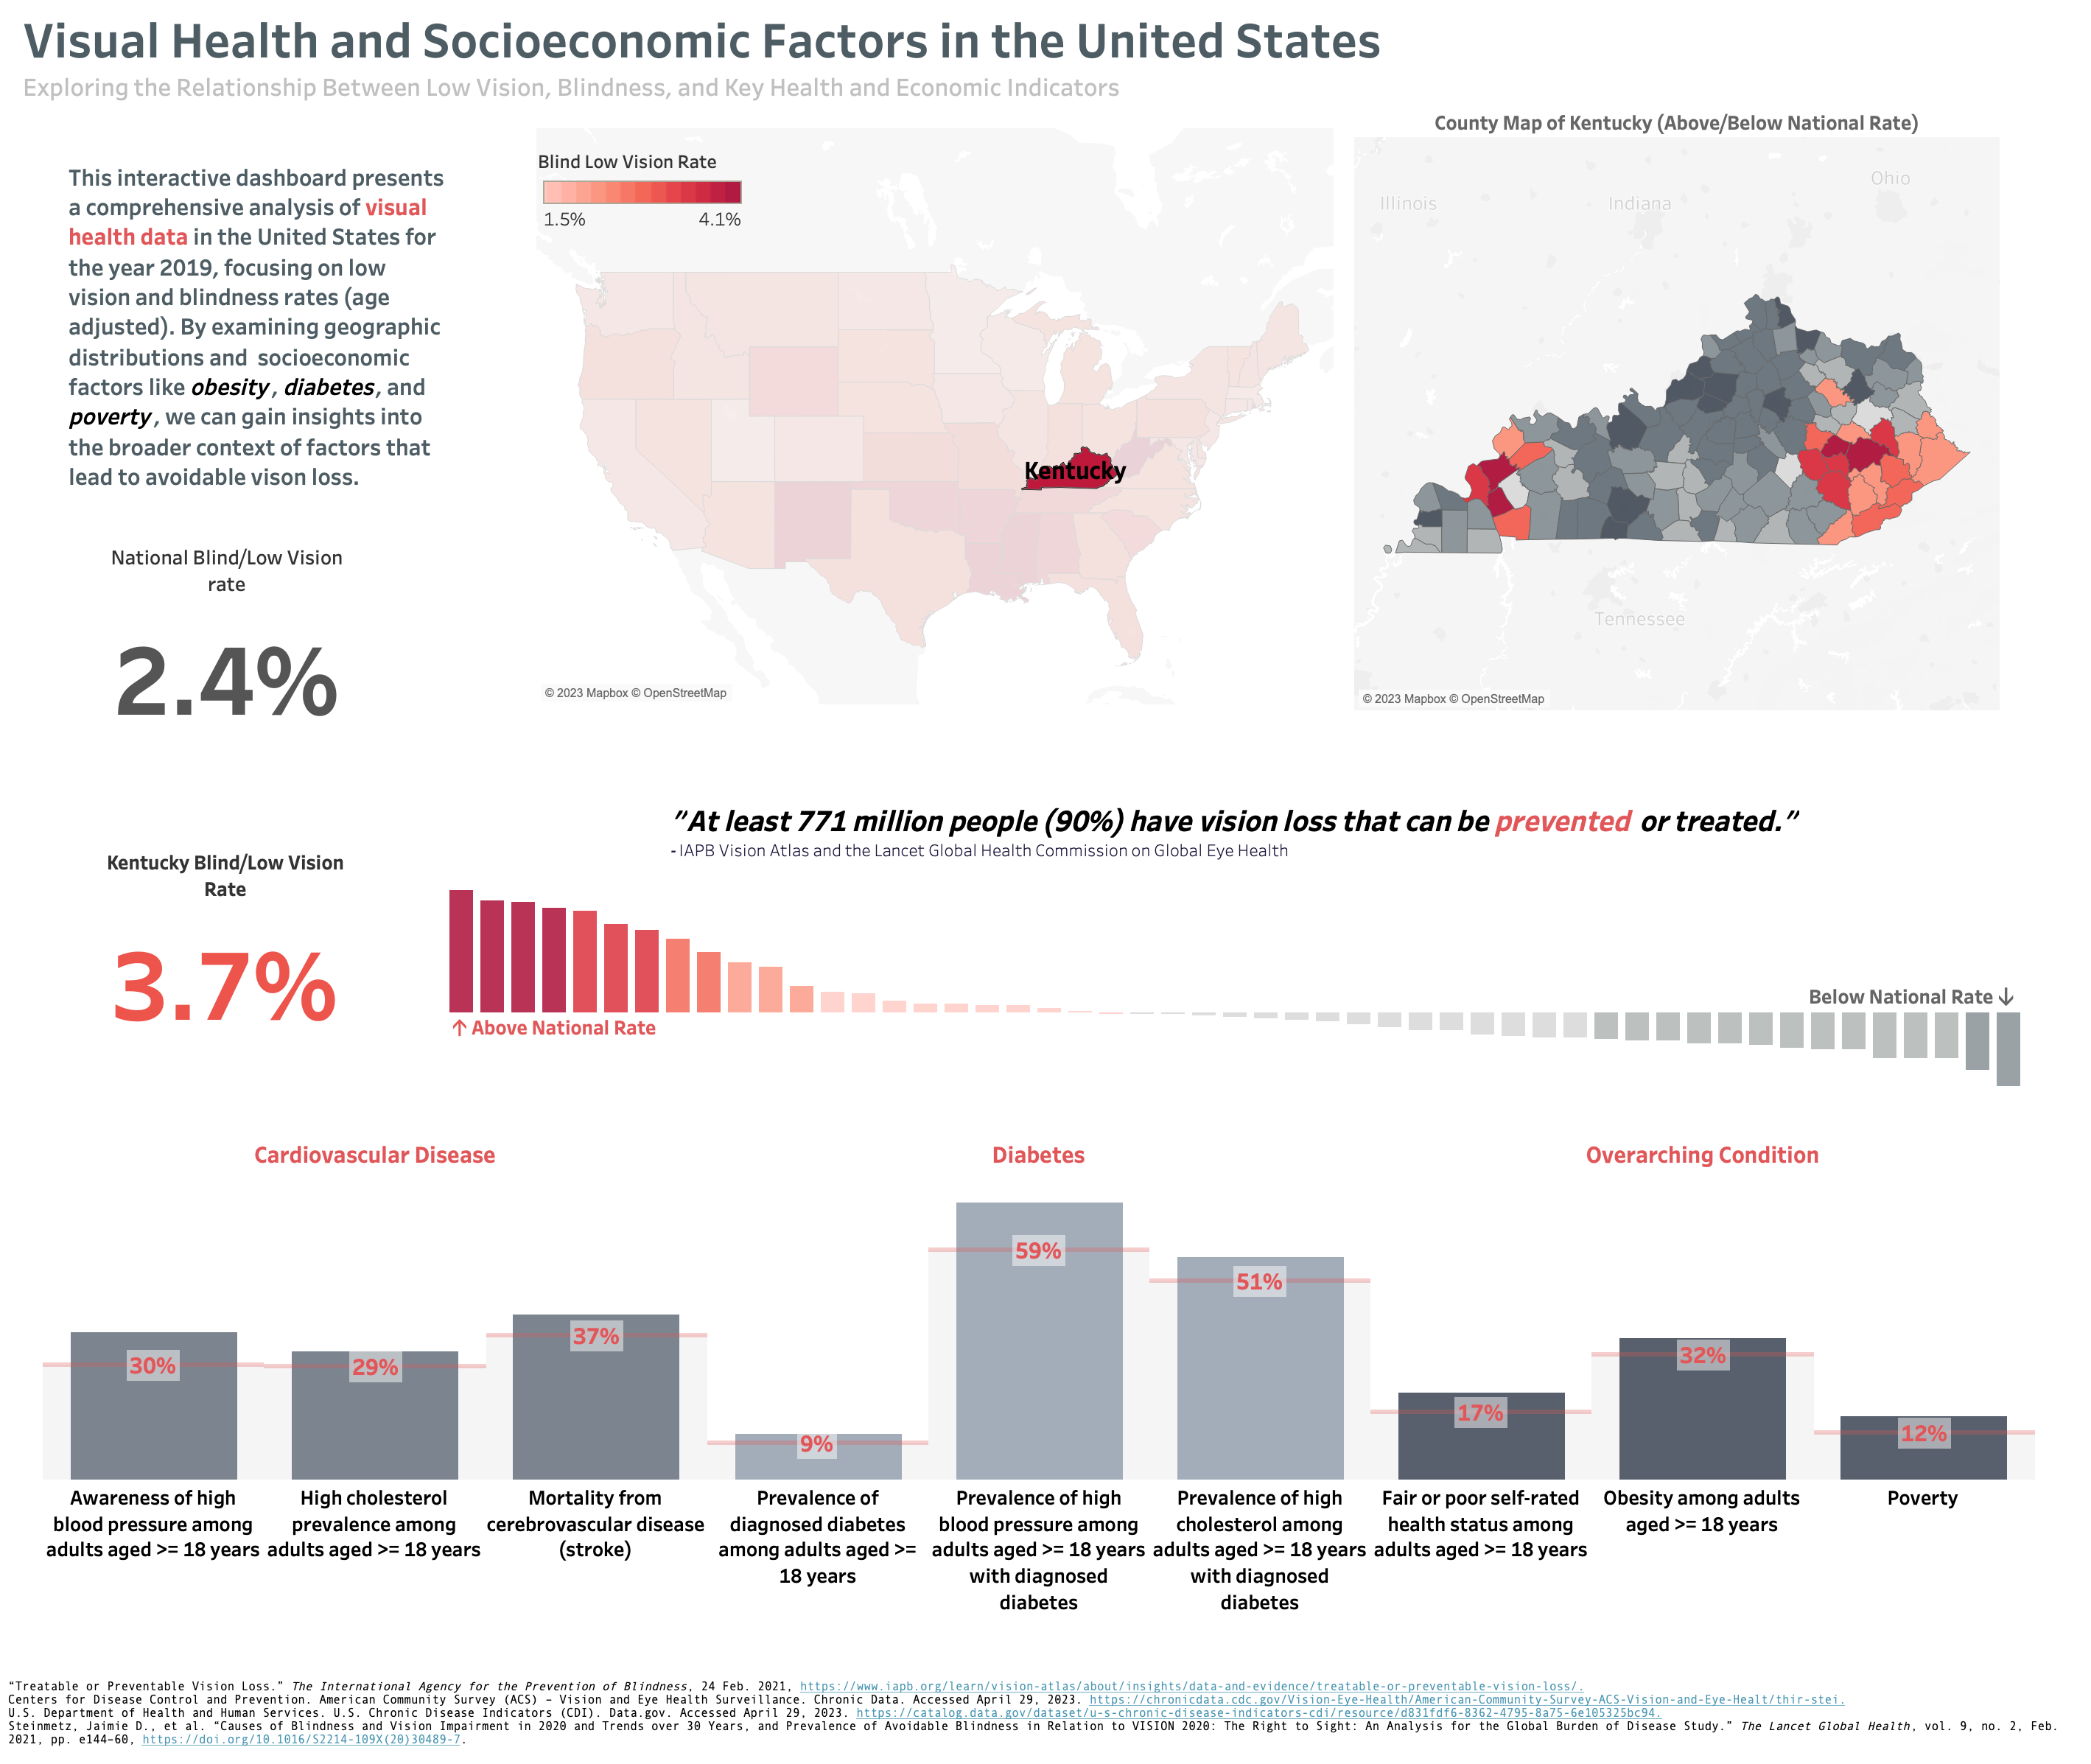

The dashboard page shown, as its layout file describes it:
{"tool":"tableau","page":{"name":"Visual Health Dashboard","canvas":[1400,1200],"ordinal":0},"visuals":[{"type":"title","box":[8,8,1384,74]},{"type":"worksheet","title":"County Map","mark":"Multipolygon","cols":["Calculation_1431300277284982788"],"box":[918,81,438,409]},{"type":"worksheet","title":"National Map of Visual Impairement Rates","mark":"Automatic","box":[363,95,541,391]},{"type":"text","box":[43,97,265,272]},{"type":"legend","title":"National Map of Visual Impairement Rates","param":"[federated.1yv3al60t06n1a1gzw2wa0jipvtj].[none:blv_rate:qk]","box":[364,109,143,66]},{"type":"worksheet","title":"National Blind/Low Vision rate","mark":"Automatic","box":[63,373,262,165]},{"type":"text","box":[451,522,827,100]},{"type":"worksheet","title":"State Blind/Low Vision Rate","mark":"Automatic","box":[62,580,200,151]},{"type":"text","box":[1224,669,146,30]},{"type":"text","box":[303,690,145,30]},{"type":"worksheet","title":"Health Outcomes","mark":"Automatic","rows":["health_res"],"cols":["h_group","h_question"],"box":[28,781,1352,376]},{"type":"text","box":[2,1142,1397,57]}]}

Visuals, with their boxes in screenshot pixels (x1, y1, x2, y2), scaled from the page's 1400x1200 canvas onto the 2091x1764 screenshot:
title: [12, 12, 2079, 121]
"County Map" worksheet (Multipolygon marks): [1371, 119, 2025, 721]
"National Map of Visual Impairement Rates" worksheet: [542, 140, 1351, 715]
text: [64, 143, 460, 542]
"National Map of Visual Impairement Rates" legend: [544, 160, 757, 257]
"National Blind/Low Vision rate" worksheet: [94, 548, 486, 791]
text: [673, 767, 1909, 914]
"State Blind/Low Vision Rate" worksheet: [93, 853, 391, 1074]
text: [1828, 984, 2046, 1028]
text: [452, 1015, 669, 1058]
"Health Outcomes" worksheet: [42, 1148, 2061, 1701]
text: [3, 1679, 2090, 1763]
